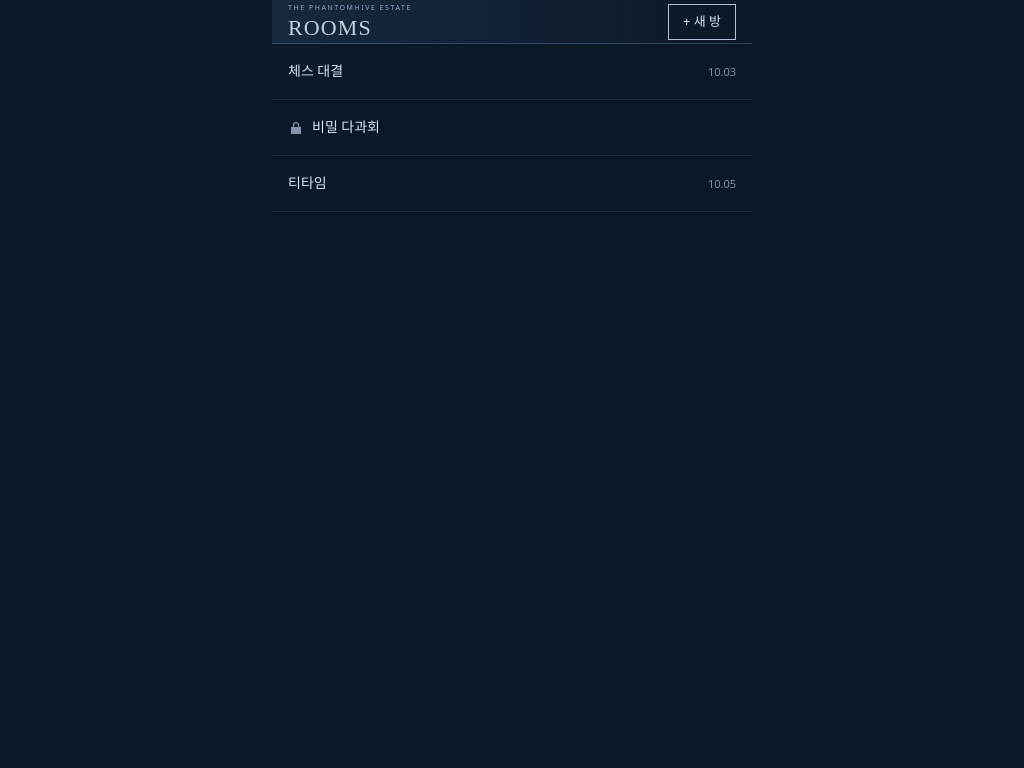
Test: 입장 시트 제출 (F-RM-43 · §6.8 · R-LOCK-004 · R-LOCK-007 · R-LOCK-008) › TC-RM-049(b): 조용한 시도 CONFIG_INVALID → 시트 + 문구, 읽기 전용 전환 없음
Click the button with aria-label "비밀 다과회, 잠긴 방" at (346, 127), box [272,100,752,156]
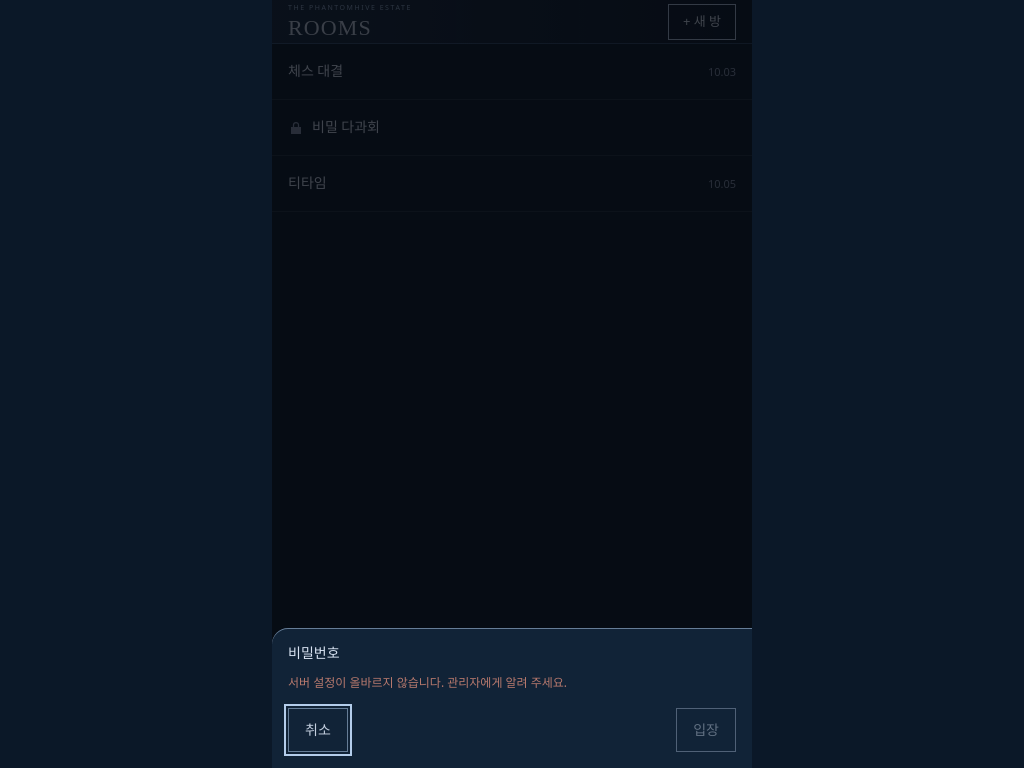
Expected: the button named "새 방 만들기" is shown, [668,4,736,40]
Expected: the message reads "서버 설정이 올바르지 않습니다. 관리자에게 알려 주세요.", [288,674,567,691]
